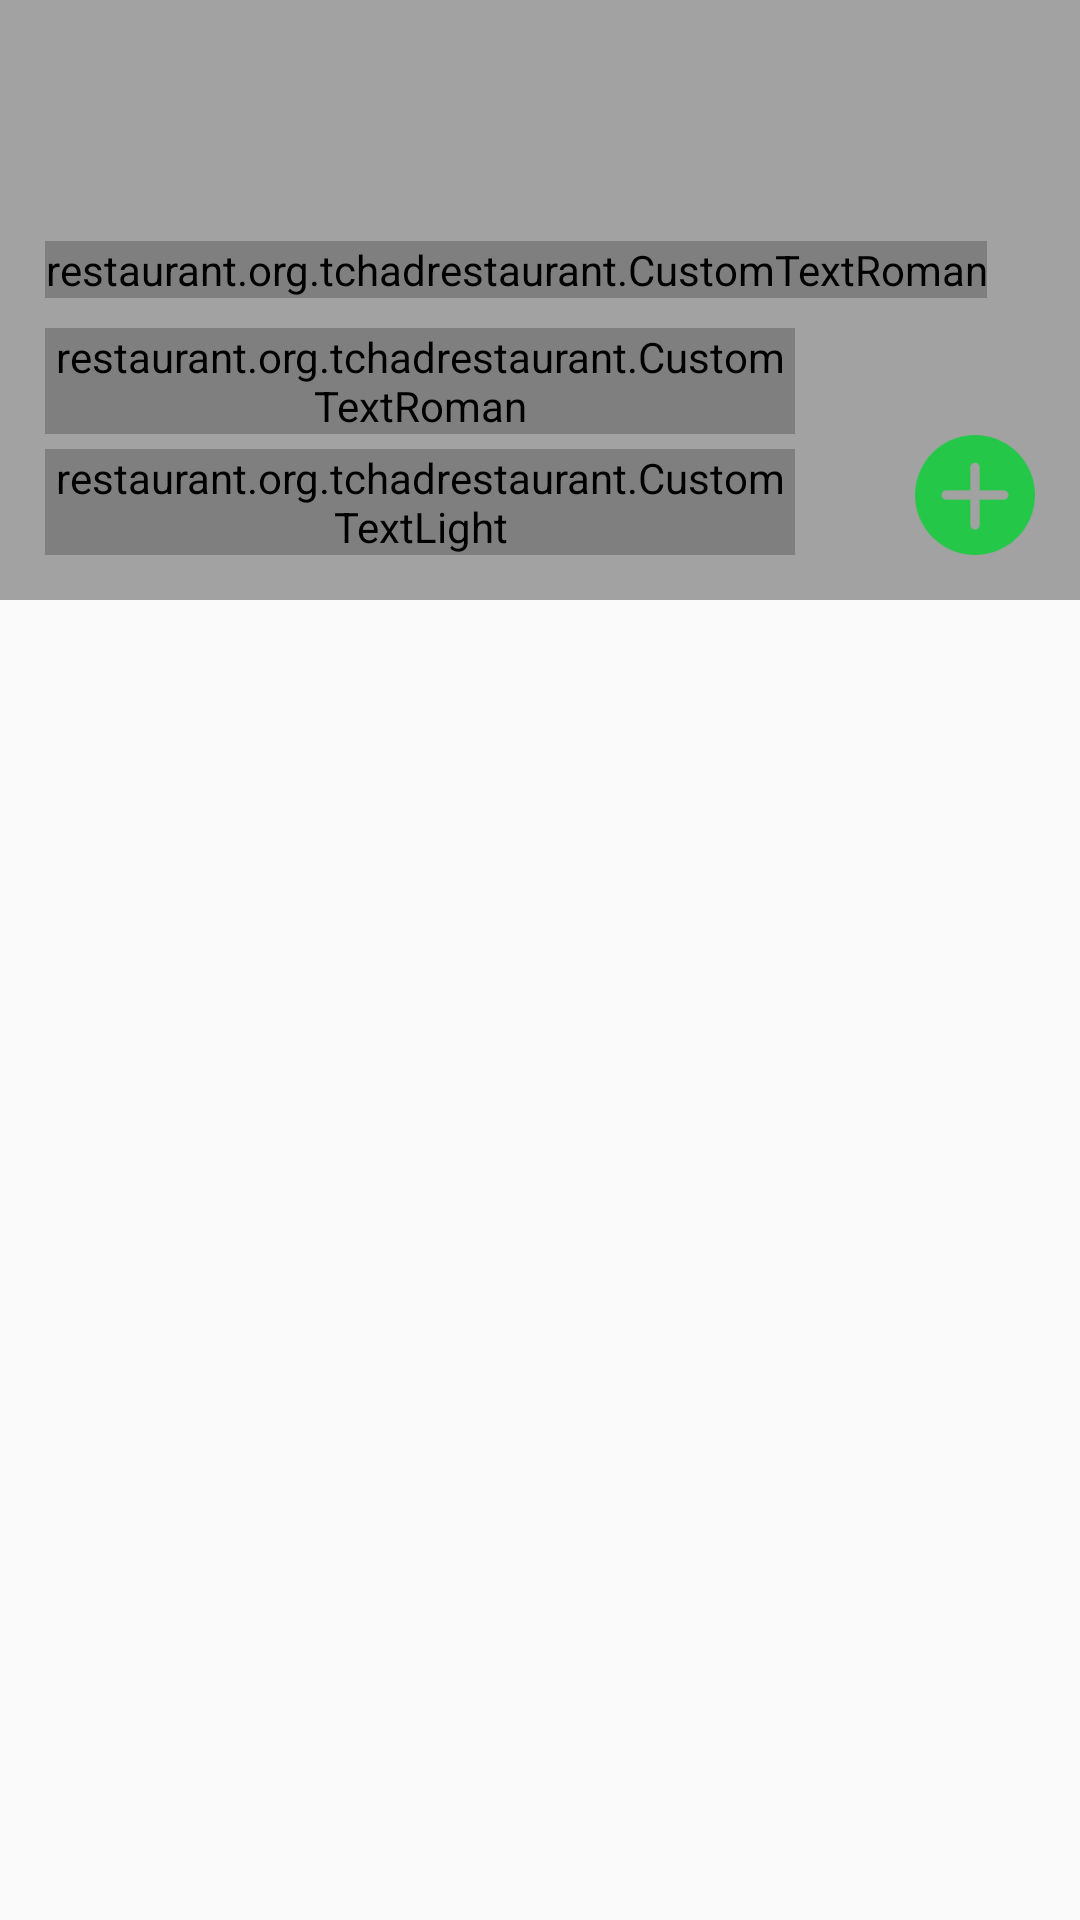

Named icons in this screenshot (1080 x 1920) and their centers, [x,y]:
add order: [975,495]
